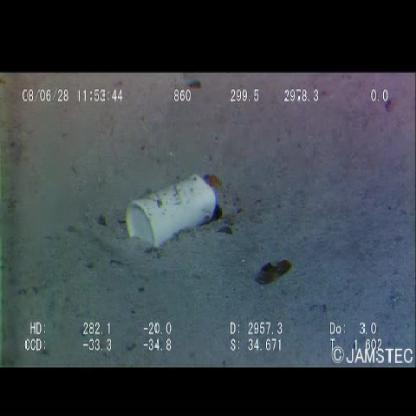Rác: (126, 176, 222, 250)
